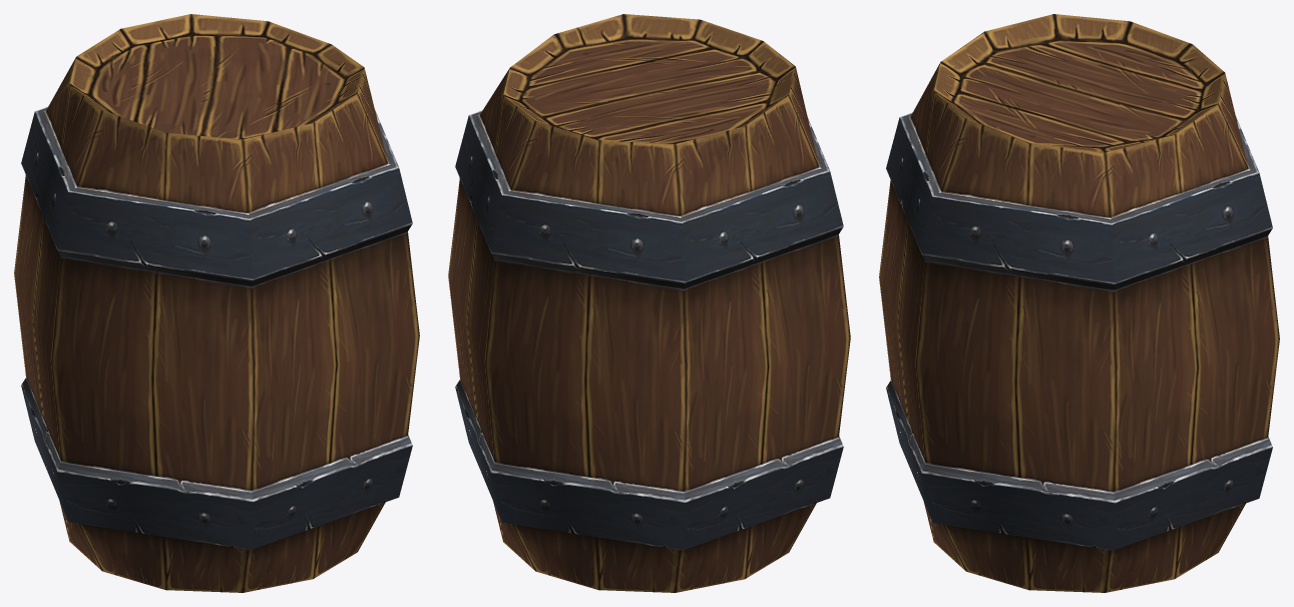
The model's file is barrel_01.fbx.
The picture shows the model from 3 angles, left to right: view 1: azimuth 30°, elevation 25°; view 2: azimuth 150°, elevation 25°; view 3: azimuth 270°, elevation 25°; orthographic projection.
Parts seen in each view (by area): view 1: barrel_01; view 2: barrel_01; view 3: barrel_01.
Boxes of the visible parts, x1,y1,x2,y2 form: barrel_01: (14, 14, 419, 592); barrel_01: (448, 14, 850, 592); barrel_01: (879, 14, 1279, 592).
Size of the model in its own units: 852 by 813 by 1020.
1 material, 1 textured.
